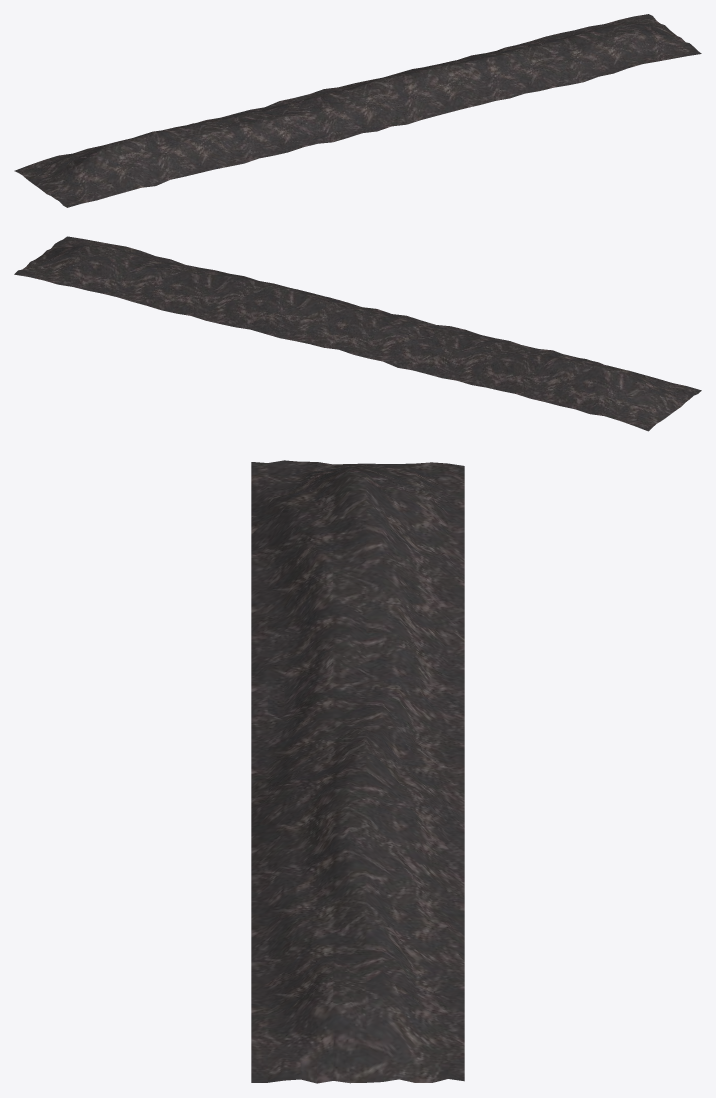
Rendered from lava_crust_ridge.glb.
The picture shows the model from 3 angles, top to bottom: view 1: azimuth 30°, elevation 25°; view 2: azimuth 150°, elevation 25°; view 3: azimuth 270°, elevation 25°; orthographic projection. The views are drawn at different scales.
Parts seen in each view (by area): view 1: lava_crust_ridge; view 2: lava_crust_ridge; view 3: lava_crust_ridge.
Boxes of the visible parts, left/top/right/bottom form: lava_crust_ridge: left=14, top=14, right=701, bottom=207; lava_crust_ridge: left=14, top=236, right=701, bottom=431; lava_crust_ridge: left=251, top=460, right=464, bottom=1083.
Size of the model in its own units: 11 by 0.4534 by 1.6.
Materials: 1 (1 with a texture image).
